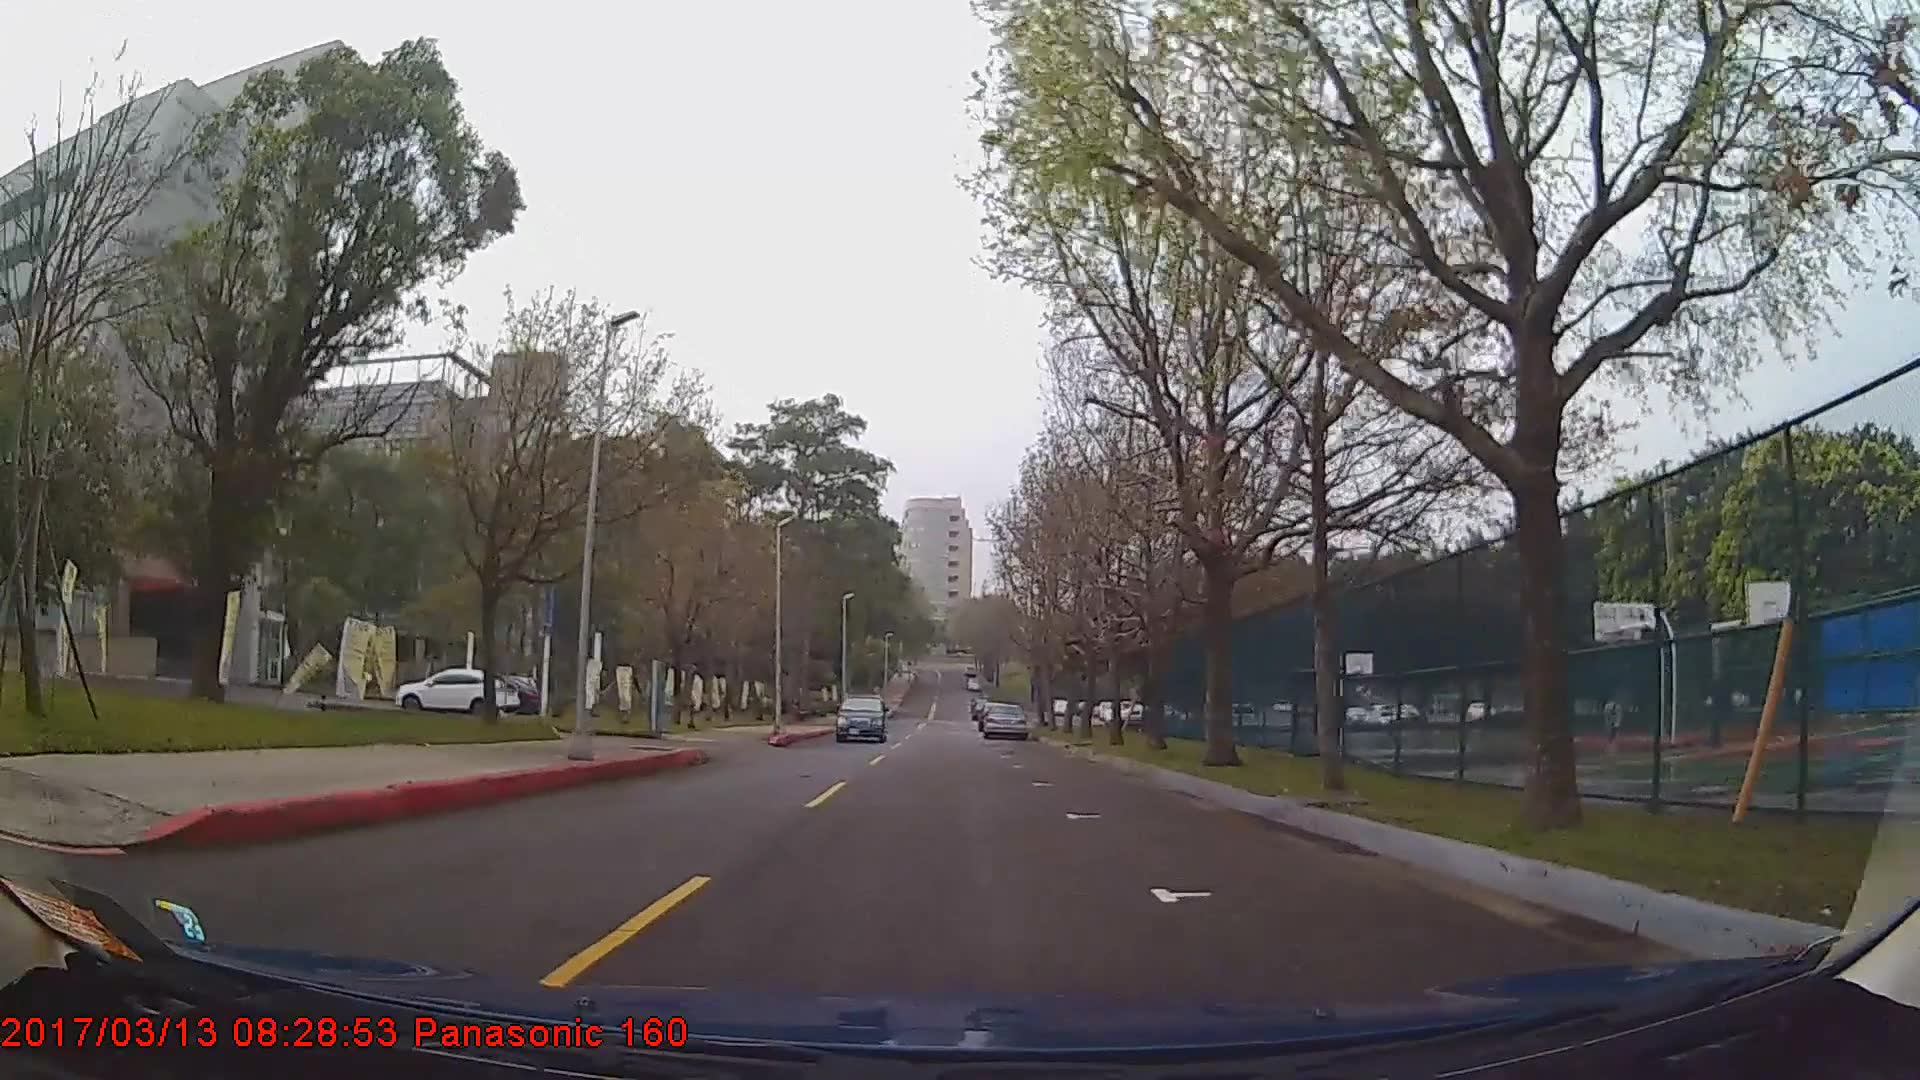vehicle: (393, 665, 518, 716), (835, 694, 886, 742), (980, 699, 1025, 738)
